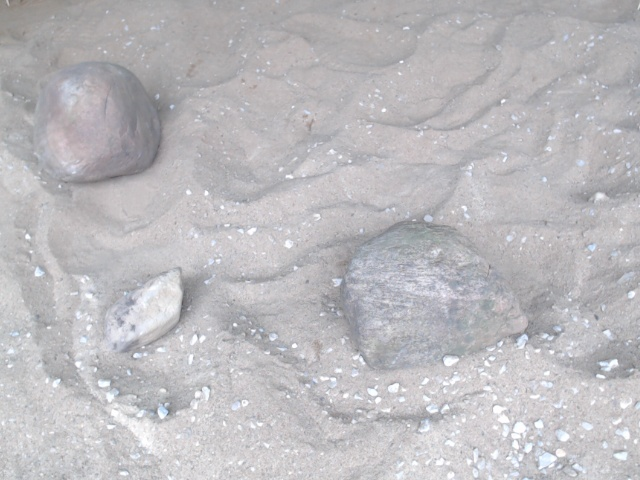rock: (334, 215, 534, 379), (27, 57, 166, 188), (97, 261, 188, 357)
